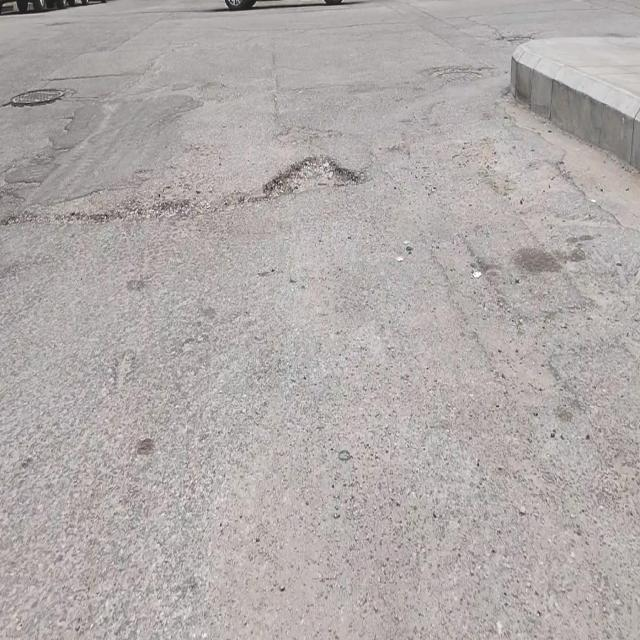Potholes: (261, 152, 362, 199)
